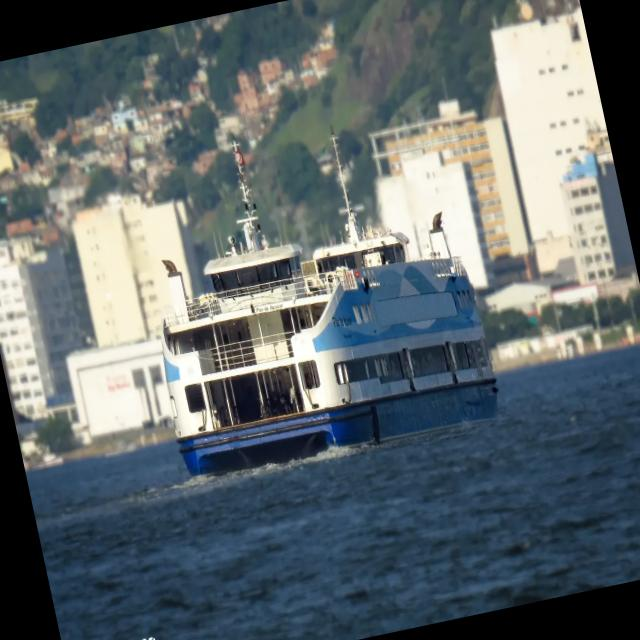Passenger: (162, 135, 497, 475)
